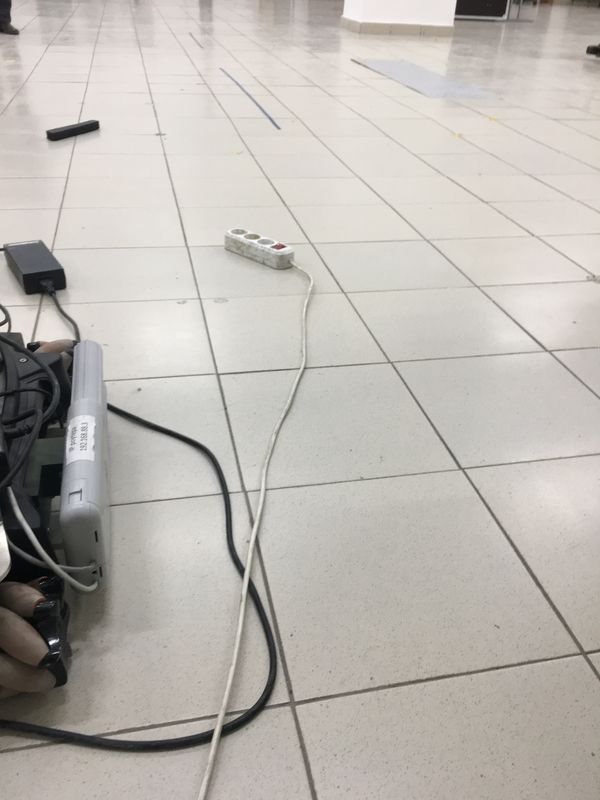socket: (219, 221, 301, 273)
